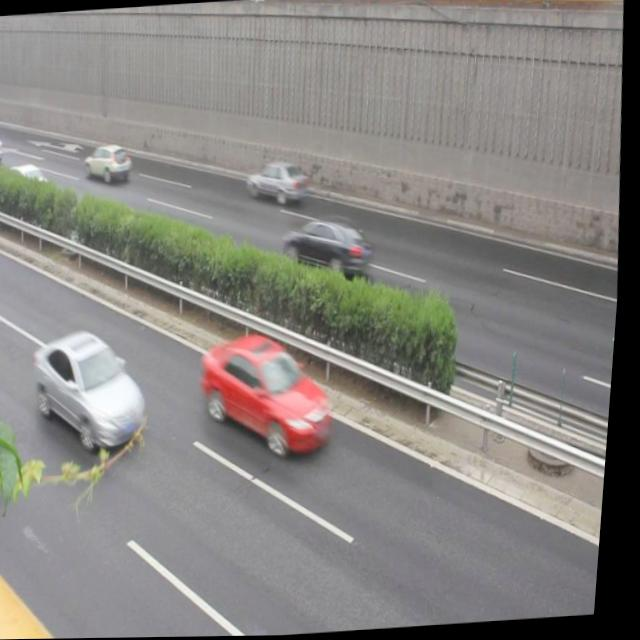car: (201, 328, 344, 457), (36, 326, 160, 452), (284, 213, 378, 282), (246, 159, 313, 211), (5, 162, 54, 204), (86, 143, 136, 182)
